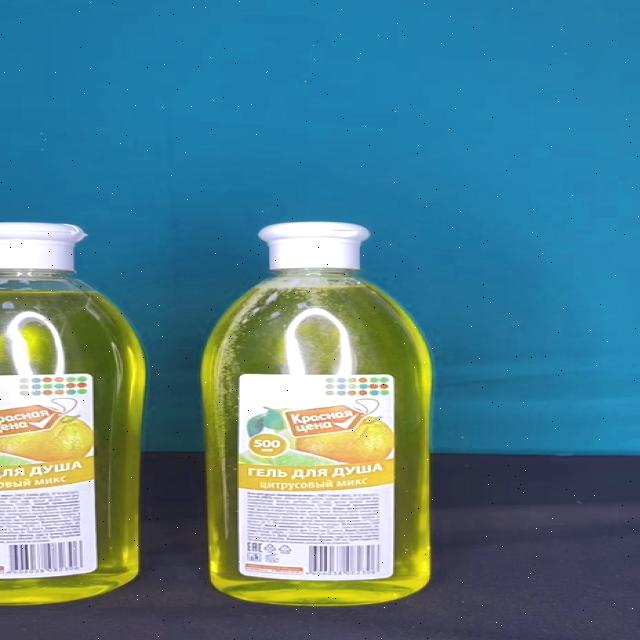Bottle: (200, 220, 431, 606)
Cap: (260, 223, 372, 270)
